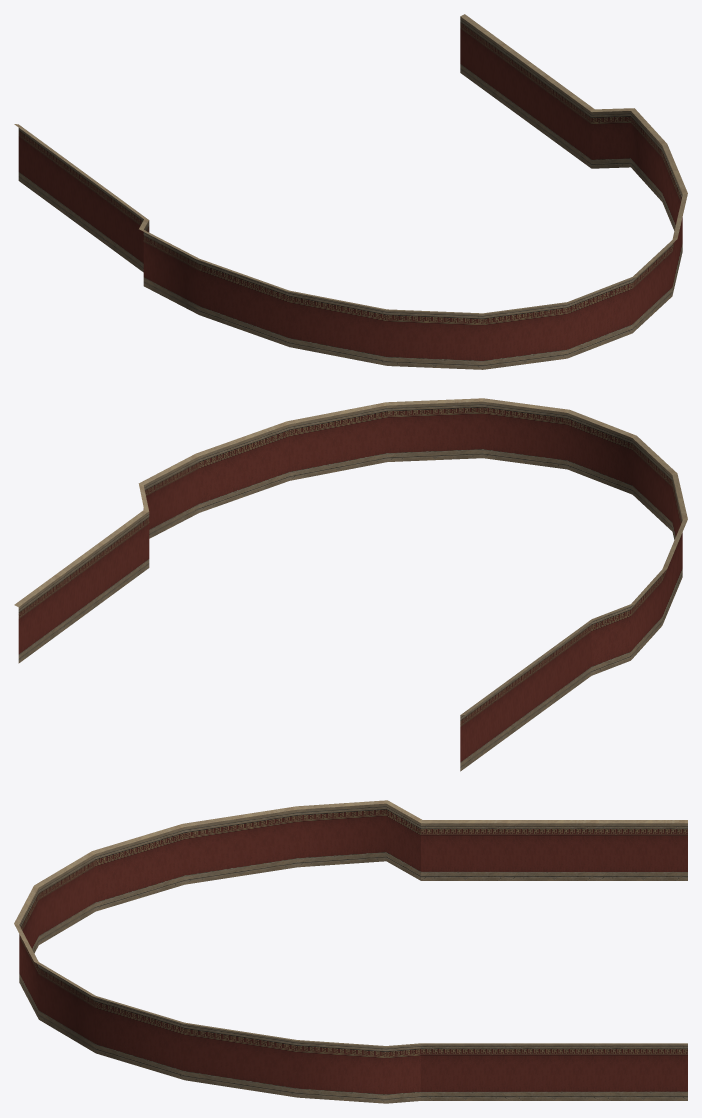
The model's file is Wall01_Maincity_003.FBX.
The picture shows the model from 3 angles, top to bottom: view 1: azimuth 30°, elevation 25°; view 2: azimuth 150°, elevation 25°; view 3: azimuth 270°, elevation 25°; orthographic projection.
Parts seen in each view (by area): view 1: Wall01_Maincity_003; view 2: Wall01_Maincity_003; view 3: Wall01_Maincity_003.
Boxes of the visible parts, x1,y1,x2,y2 form: Wall01_Maincity_003: [14, 14, 687, 369]; Wall01_Maincity_003: [14, 398, 687, 771]; Wall01_Maincity_003: [14, 800, 687, 1103].
Size of the model in its own units: 2200 by 280 by 2540.
Materials: 1 (1 with a texture image).
